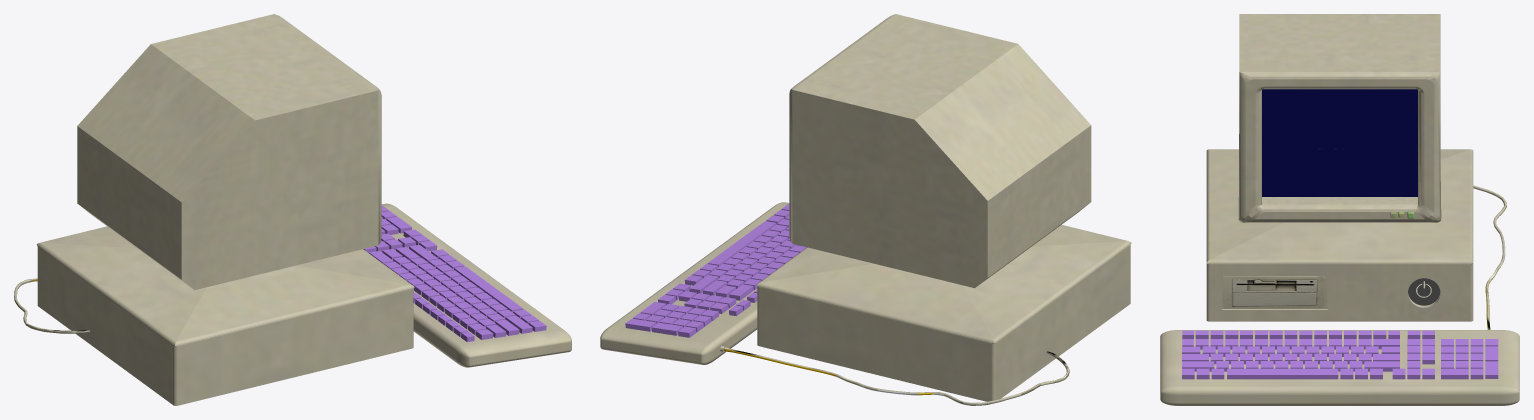
The model's file is On_BlankScreen.glb.
The picture shows the model from 3 angles, left to right: view 1: azimuth 30°, elevation 25°; view 2: azimuth 150°, elevation 25°; view 3: azimuth 270°, elevation 25°; orthographic projection. The views are drawn at different scales.
Visible parts, largest first — view 1: PC; view 2: PC; view 3: PC, Onbutton.
Part boxes in pixels (x1,y1,x2,y2): PC: (14, 14, 571, 405); PC: (600, 14, 1131, 405); PC: (1160, 14, 1519, 405); Onbutton: (1408, 278, 1440, 305).
Size of the model in its own units: 1.36 by 0.8486 by 1.05.
Materials: 4 (2 with a texture image).
